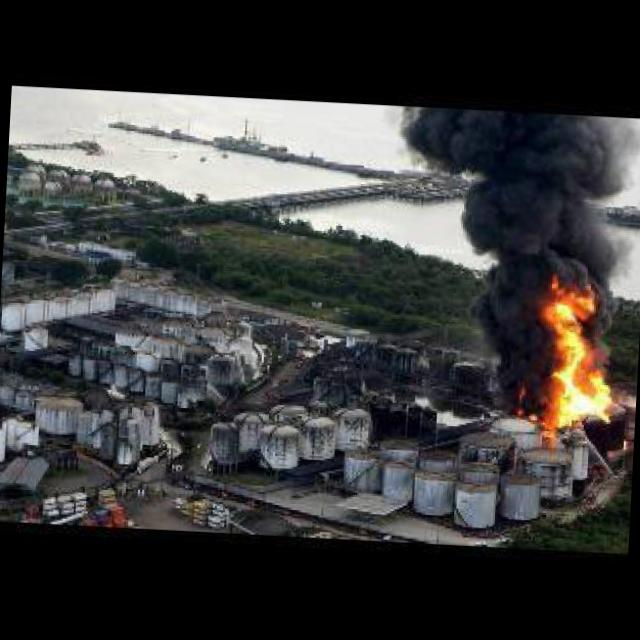fire: (518, 266, 624, 430)
smoke: (394, 102, 637, 382)
